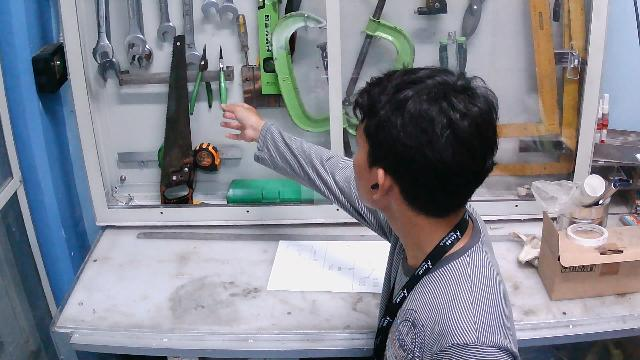tang_cucut_lancip_1: (211, 39, 241, 128)
